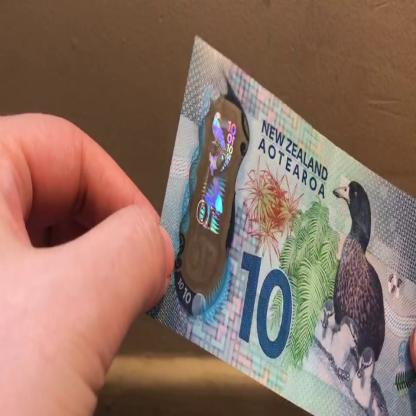10F: (186, 107, 238, 285)
